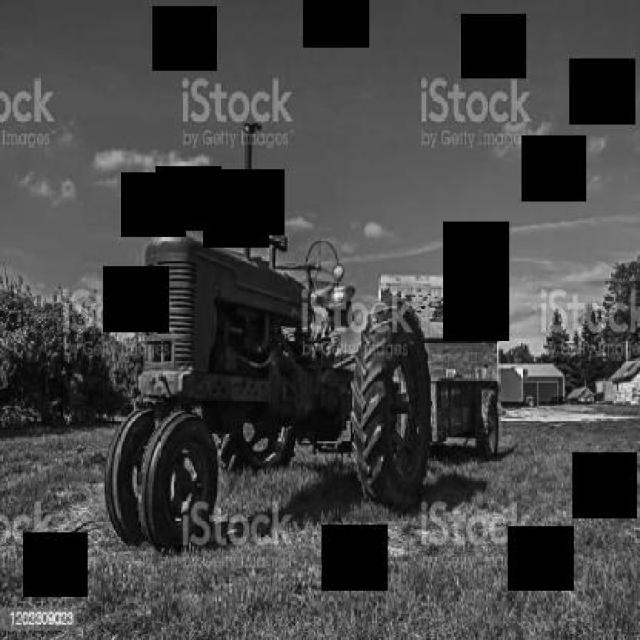Tratores - v5 YOLO V8L 2024-11-13: (82, 107, 450, 638)
